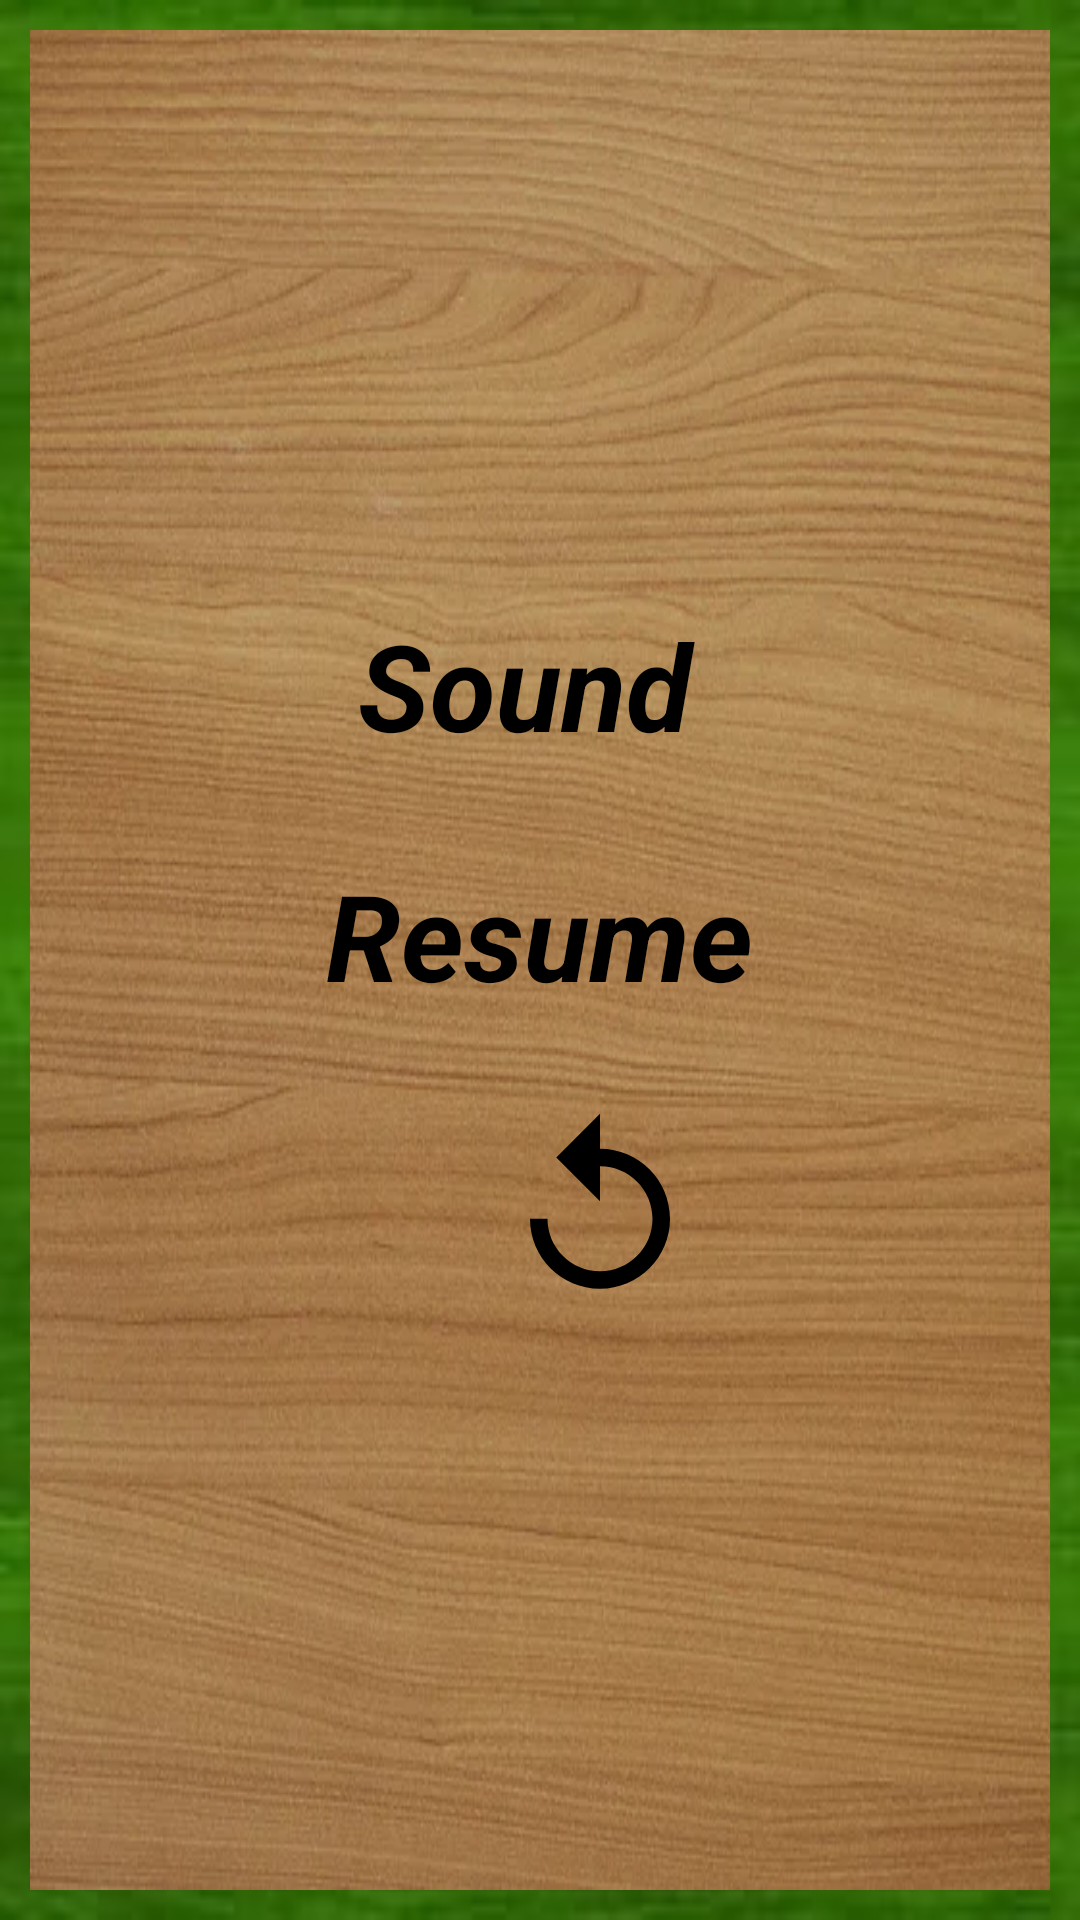

Icon click points for this 1080px x 1920px phone screenshot, format point (x, y):
Re-Play: point (599, 1201)
